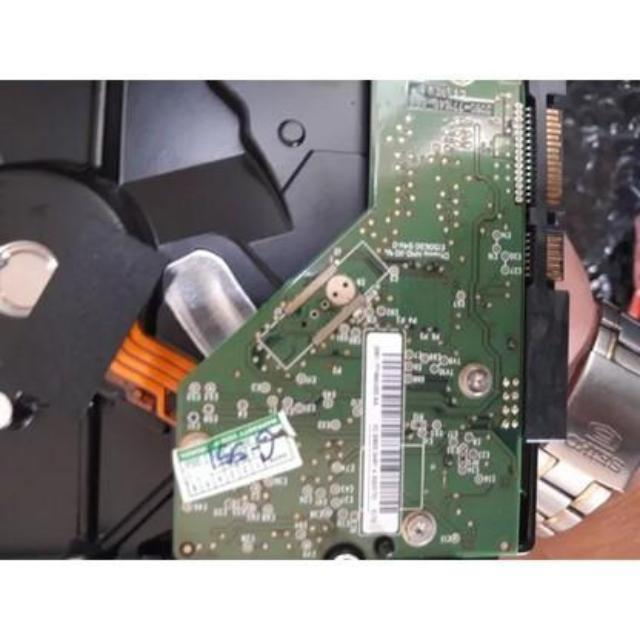DISK: (0, 82, 569, 560)
